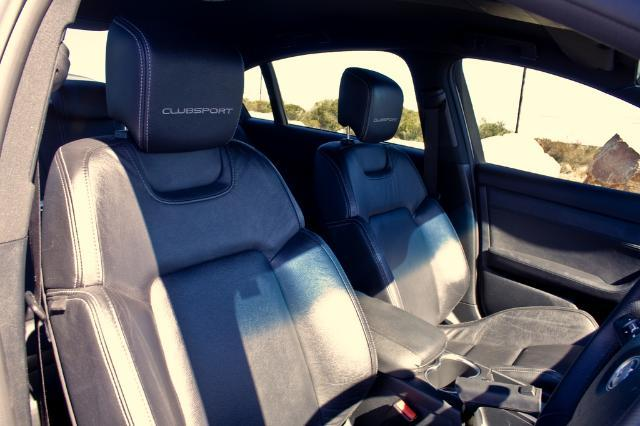Seatbelt: (24, 157, 51, 426)
